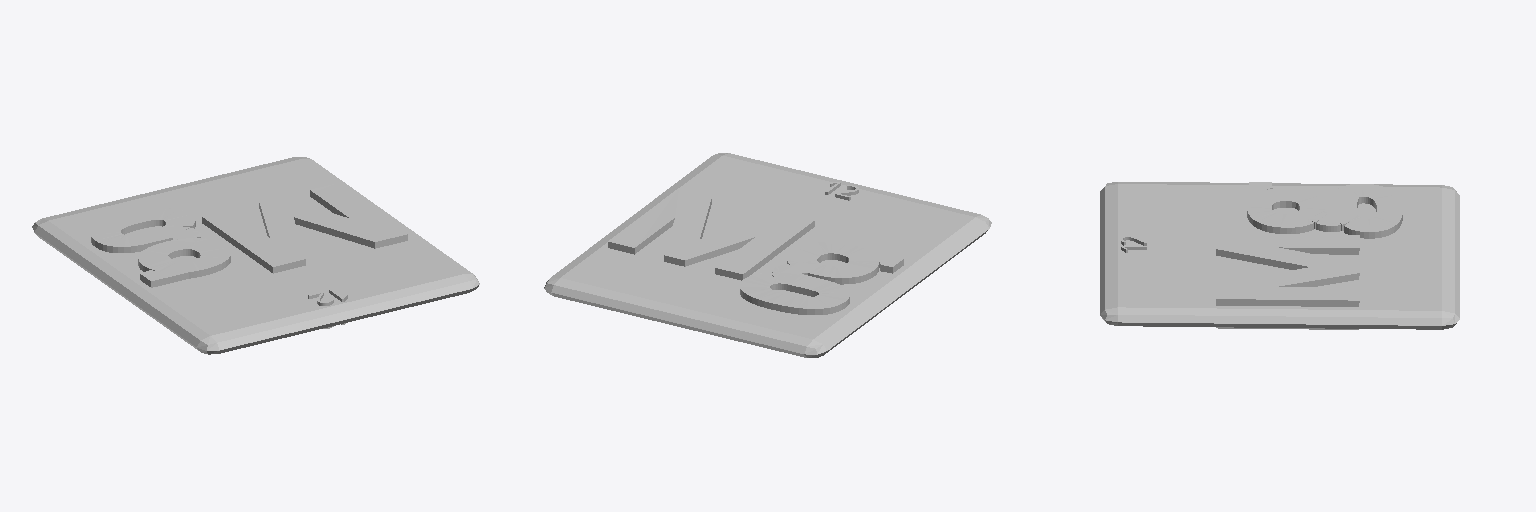
3 views of the same model, side by side, from view 1: azimuth 30°, elevation 25°; view 2: azimuth 150°, elevation 25°; view 3: azimuth 270°, elevation 25° (orthographic).
Parts seen in each view (by area): view 1: 126_Box_3, 124_Mg_-_M, 125_Mg_-_g; view 2: 126_Box_3, 124_Mg_-_M, 125_Mg_-_g; view 3: 126_Box_3, 124_Mg_-_M, 125_Mg_-_g.
Boxes of the visible parts, x1=… form: 126_Box_3: x1=32, y1=157, x2=479, y2=354; 124_Mg_-_M: x1=202, y1=183, x2=407, y2=273; 125_Mg_-_g: x1=91, y1=208, x2=230, y2=287; 126_Box_3: x1=544, y1=153, x2=991, y2=357; 124_Mg_-_M: x1=608, y1=188, x2=814, y2=280; 125_Mg_-_g: x1=740, y1=242, x2=903, y2=314; 126_Box_3: x1=1100, y1=182, x2=1459, y2=329; 124_Mg_-_M: x1=1216, y1=233, x2=1359, y2=329; 125_Mg_-_g: x1=1247, y1=182, x2=1402, y2=238.
Size of the model in its own units: 9 by 0.9629 by 10.